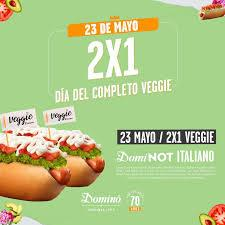Completos: (0, 129, 69, 200), (32, 123, 103, 187)
